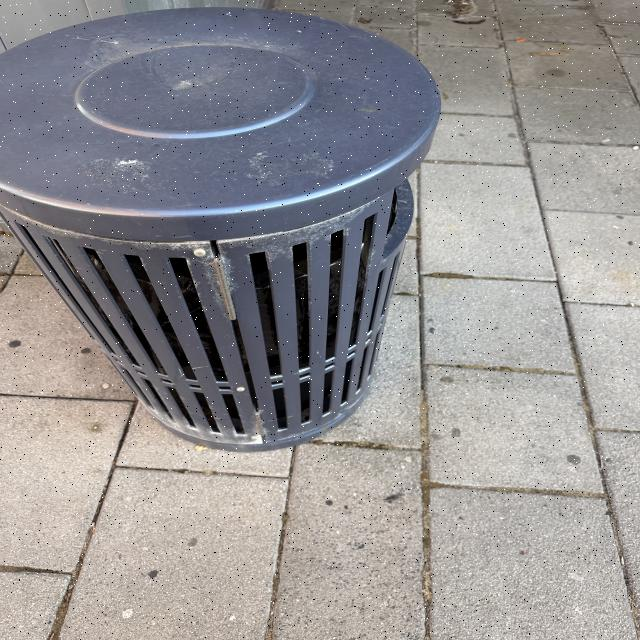Dustbin: (0, 7, 443, 449)
